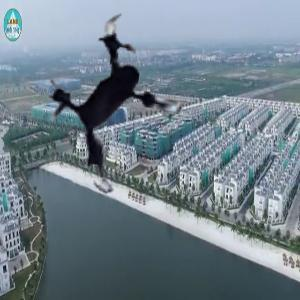drone: (23, 5, 225, 207)
